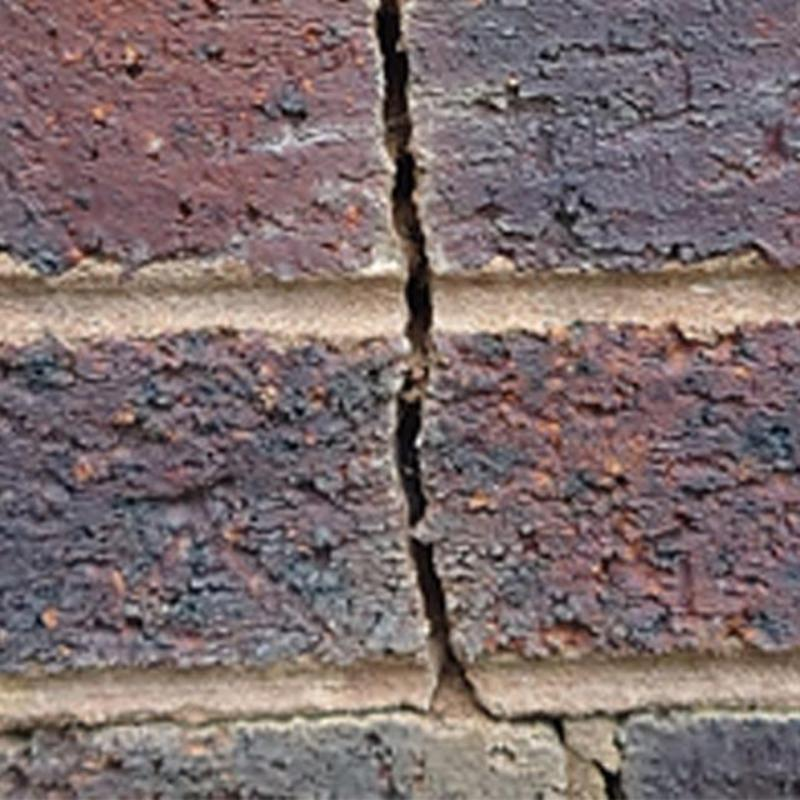pothole: (377, 0, 436, 527), (411, 538, 476, 690), (474, 700, 650, 745), (593, 759, 630, 800)
